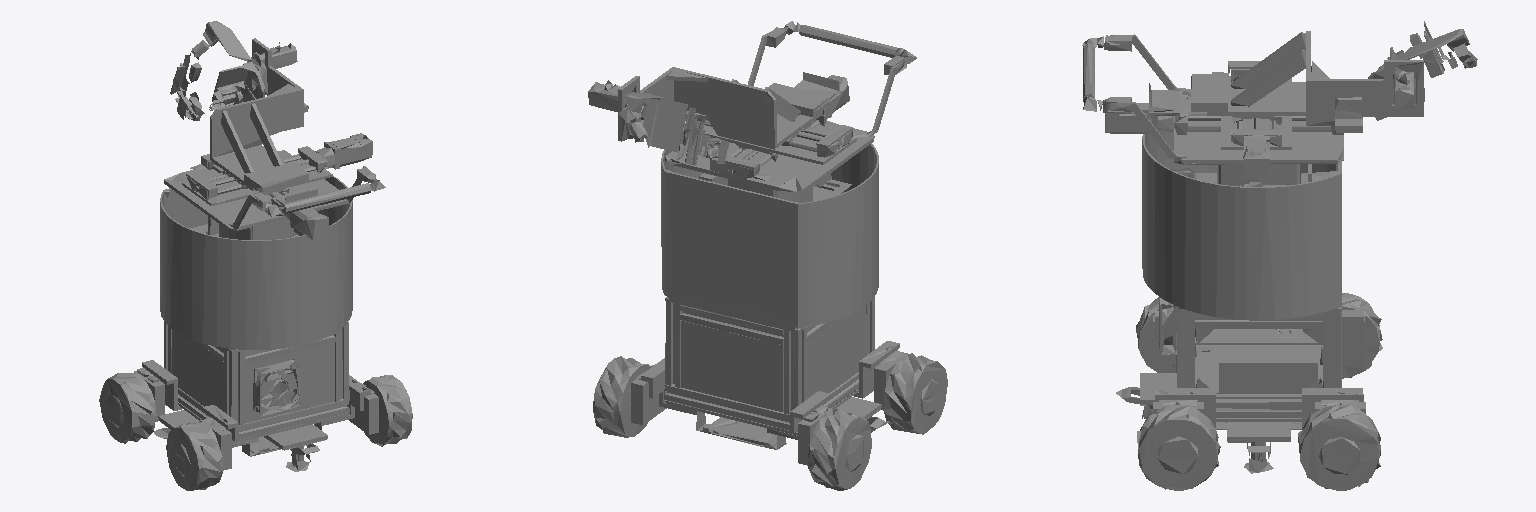
URDF robot description (robot):
<?xml version="1.0"?>
<robot name="robot">
  <link name="base_link">
    <visual>
      <origin xyz="-1.05735 2.02257 -0.72" rpy="1.5708 0 0"/>
      <geometry>
        <mesh filename="package://mecanum_description/meshes/robot_base.stl" scale="0.001 0.001 0.001"/>
      </geometry>
      <material name="robot_gray">
        <color rgba="0.6 0.6 0.6 1.0"/>
      </material>
    </visual>
    <collision>
      <origin xyz="-1.05735 2.02257 -0.72" rpy="1.5708 0 0"/>
      <geometry>
        <mesh filename="package://mecanum_description/meshes/robot_base.stl" scale="0.001 0.001 0.001"/>
      </geometry>
    </collision>
    <inertial>
      <mass value="113.4"/>
      <origin xyz="0 0 0" rpy="0 0 0"/>
      <inertia ixx="1.0" ixy="0.0" ixz="0.0" iyy="1.0" iyz="0.0" izz="1.0"/>
    </inertial>
  </link>
</robot>

--- Facts derived from the render (not from the file) ---
Views: 3 orthographic renders of the robot side by side, from view 1: azimuth 30°, elevation 25°; view 2: azimuth 150°, elevation 25°; view 3: azimuth 270°, elevation 25°.
Model robot with 1 links and 0 joints (none), rooted at base_link, posed all joints at 0.
Links seen in each view (by area): view 1: base_link; view 2: base_link; view 3: base_link.
Boxes of the visible links, x1,y1,x2,y2 form: base_link: (99, 21, 412, 490); base_link: (588, 21, 947, 490); base_link: (1082, 21, 1477, 490).
Bounding box of the posed robot: 0.6502 × 0.8379 × 0.9901 m (x, y, z).
1 mesh visuals loaded from 1 distinct referenced files (1 binary STL).
